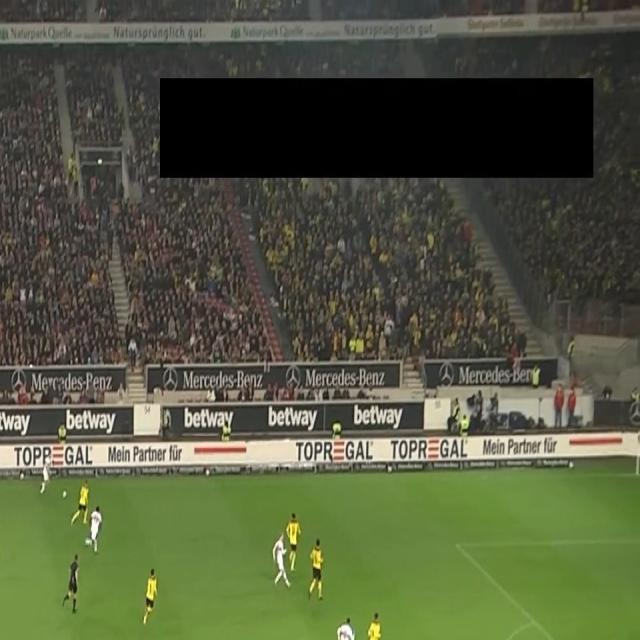ball: (62, 488, 68, 499)
